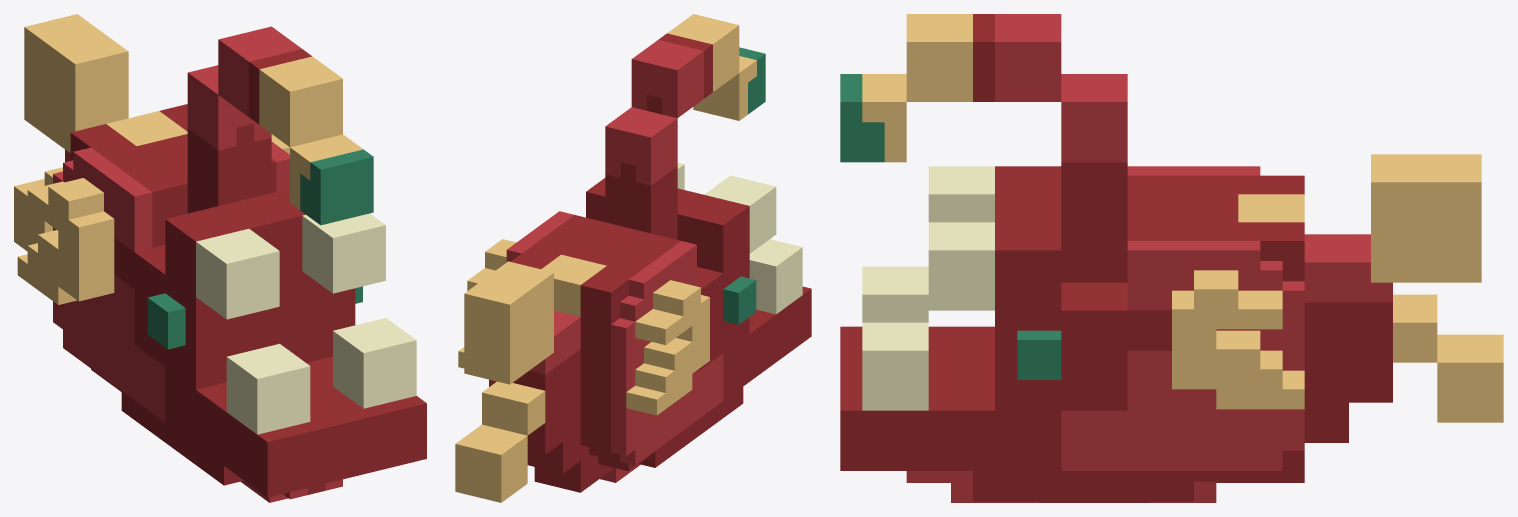
File: angler.fbx
3 renders of one model, left to right at view 1: azimuth 30°, elevation 25°; view 2: azimuth 150°, elevation 25°; view 3: azimuth 270°, elevation 25°, orthographic. The views are drawn at different scales.
Parts seen in each view (by area): view 1: angler; view 2: angler; view 3: angler.
Boxes of the visible parts, bbox=[...] form: angler: bbox=[14, 14, 426, 502]; angler: bbox=[455, 14, 811, 502]; angler: bbox=[840, 14, 1503, 502].
Bounding box in the file's own units: 1.3 × 2.3 × 3.
